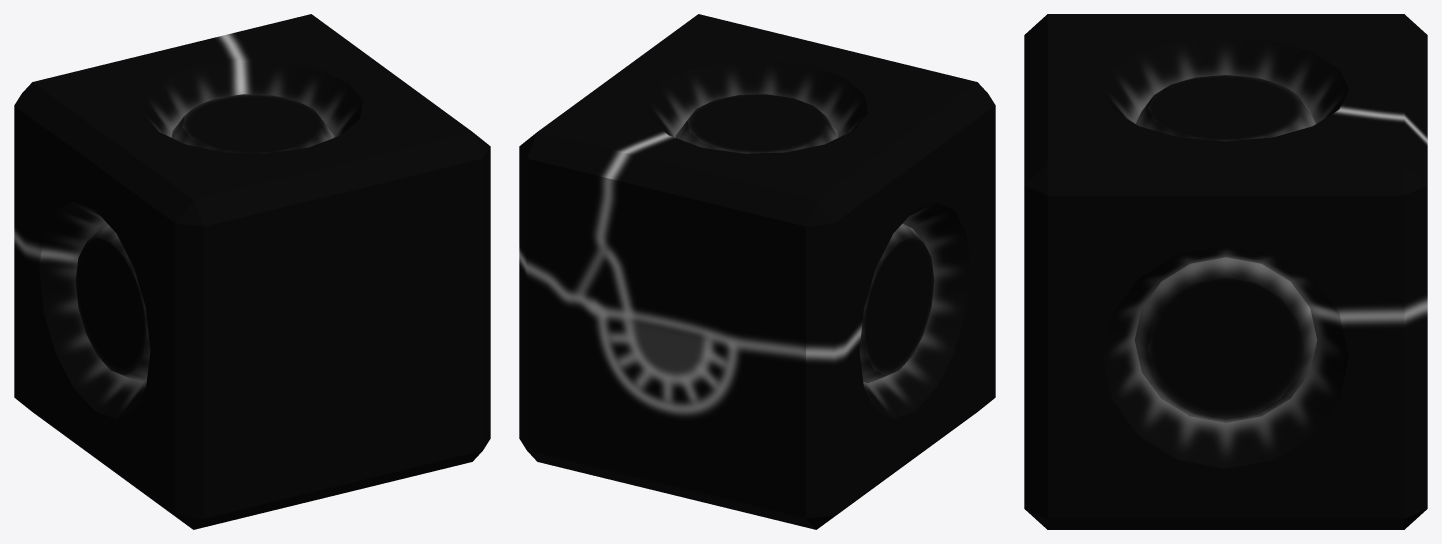
The model's file is Head.FBX.
3 views of the same model, side by side, from view 1: azimuth 30°, elevation 25°; view 2: azimuth 150°, elevation 25°; view 3: azimuth 270°, elevation 25° (orthographic). The views are drawn at different scales.
Parts seen in each view (by area): view 1: Head; view 2: Head; view 3: Head.
Part boxes in pixels (x1,y1,x2,y2): Head: (14, 14, 490, 529); Head: (519, 14, 995, 529); Head: (1024, 14, 1427, 529).
Size of the model in its own units: 100 by 100 by 100.
1 material, 1 textured.
